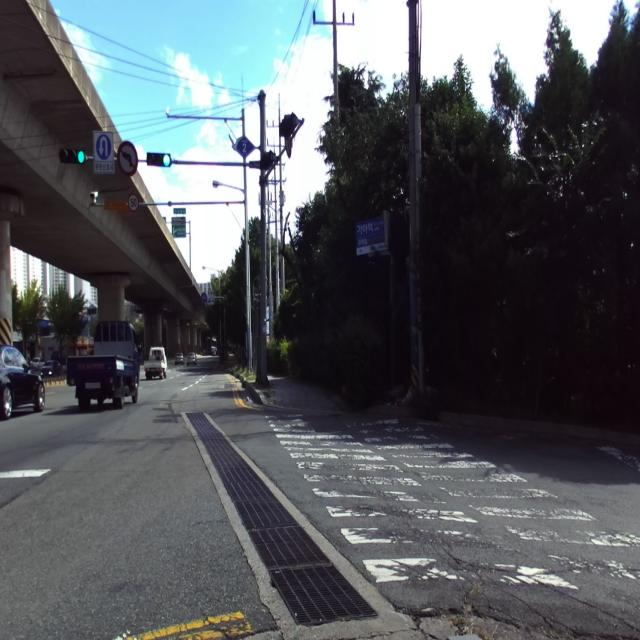횡단보도: (265, 415, 640, 589)
